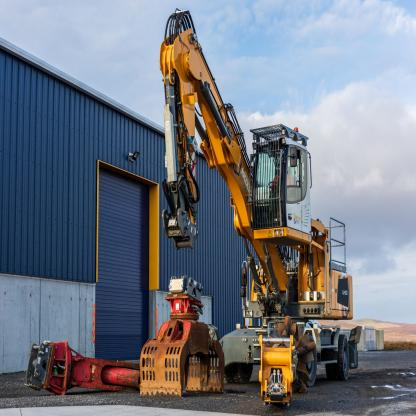excavator: (128, 10, 362, 392)
